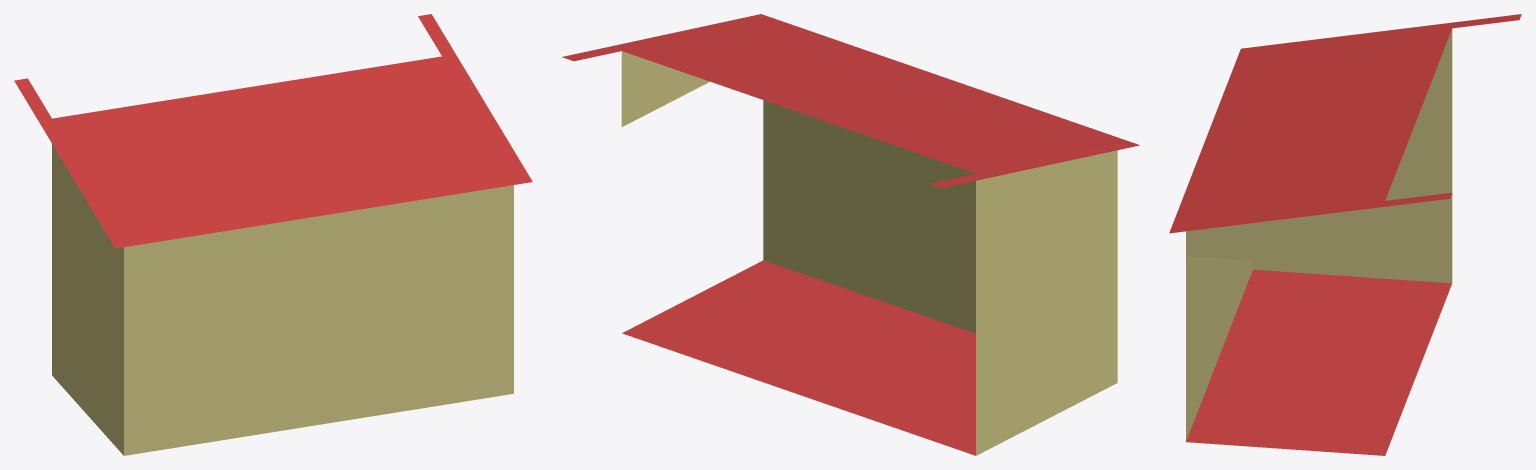
3 views of the same model, side by side, from view 1: azimuth 30°, elevation 25°; view 2: azimuth 150°, elevation 25°; view 3: azimuth 270°, elevation 25° (orthographic). The views are drawn at different scales.
Bounding box in the file's own units: 16.49 × 12.03 × 10.09.
